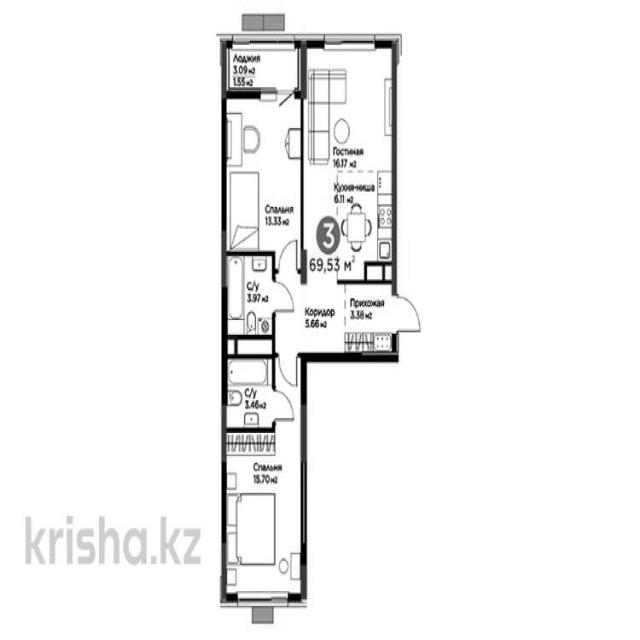balcony: (223, 40, 303, 97)
bathroom: (222, 255, 275, 357), (221, 356, 279, 434)
hallway: (271, 267, 397, 356)
living_room: (224, 431, 308, 604), (224, 95, 302, 254)
studio: (304, 37, 399, 283)
